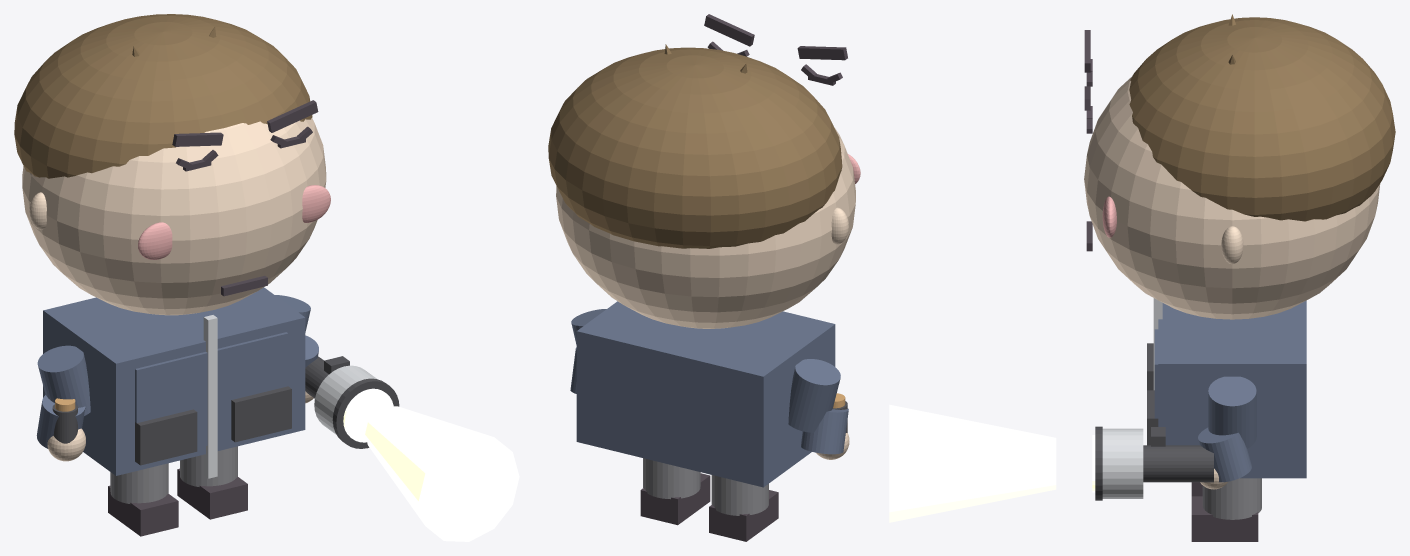
File: torch.glb
3 views of the same model, side by side, from view 1: azimuth 30°, elevation 25°; view 2: azimuth 150°, elevation 25°; view 3: azimuth 270°, elevation 25° (orthographic). The views are drawn at different scales.
Parts seen in each view (by area): view 1: Head, HairCap, Coat, Beam, CoatFront, Pocket_L, Pocket_R, UpperArm_L, Shoe_L, Shoe_R, Zipper, Leg_L (+12 smaller); view 2: HairCap, Coat, Head, UpperArm_L, Leg_L, Leg_R, Shoe_R, Shoe_L, Forearm_L, Brow_R, Brow_L, Ear_L (+1 smaller); view 3: HairCap, Head, Coat, Beam, TorchHead, UpperArm_R, TorchGrip, Leg_R, Shoe_R, Forearm_R, Ear_R, TorchRim.
Part boxes in pixels (<box>): Head: <box>22,118,326,315</box>; HairCap: <box>14,14,312,178</box>; Coat: <box>43,287,305,475</box>; Beam: <box>365,406,519,541</box>; CoatFront: <box>135,332,288,447</box>; Pocket_L: <box>135,409,197,465</box>; Pocket_R: <box>231,386,291,442</box>; UpperArm_L: <box>37,345,90,415</box>; Shoe_L: <box>108,485,178,536</box>; Shoe_R: <box>177,468,247,519</box>; Zipper: <box>203,315,217,478</box>; Leg_L: <box>110,463,168,503</box>; HairCap: <box>548,47,842,248</box>; Coat: <box>576,301,835,487</box>; Head: <box>556,127,855,328</box>; UpperArm_L: <box>788,359,840,432</box>; Leg_L: <box>711,475,768,515</box>; Leg_R: <box>643,458,700,499</box>; Shoe_R: <box>640,473,710,525</box>; Shoe_L: <box>709,490,778,541</box>; Forearm_L: <box>801,408,848,454</box>; Brow_R: <box>704,14,754,46</box>; Brow_L: <box>797,46,847,60</box>; Ear_L: <box>831,207,848,244</box>; HairCap: <box>1129,17,1395,221</box>; Head: <box>1084,76,1380,319</box>; Coat: <box>1158,300,1306,478</box>; Beam: <box>889,404,1056,522</box>; TorchHead: <box>1102,428,1143,498</box>; UpperArm_R: <box>1208,376,1256,448</box>; TorchGrip: <box>1143,445,1213,482</box>; Leg_R: <box>1202,478,1261,519</box>; Shoe_R: <box>1191,496,1258,541</box>; Forearm_R: <box>1198,427,1251,482</box>; Ear_R: <box>1221,226,1243,264</box>; TorchRim: <box>1095,426,1102,500</box>.
Size of the model in its own units: 1.4 by 1.97 by 1.88.
